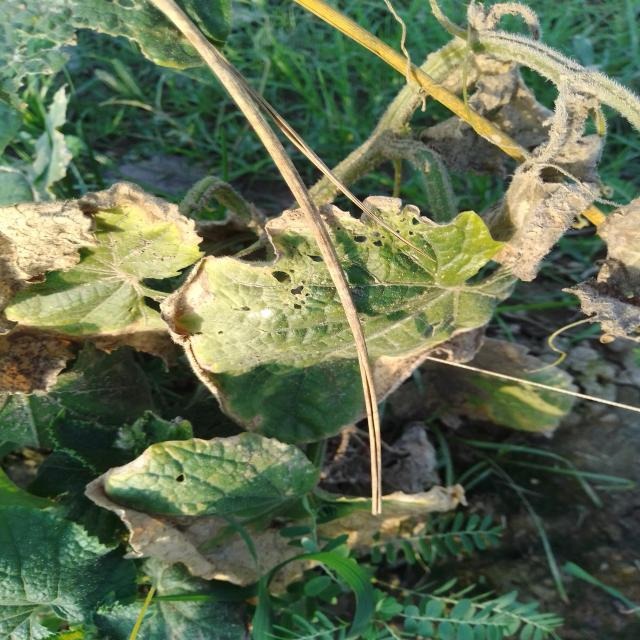cucumber_bacterial: (173, 155, 526, 437), (0, 176, 204, 413), (88, 416, 331, 600), (486, 29, 633, 287)
